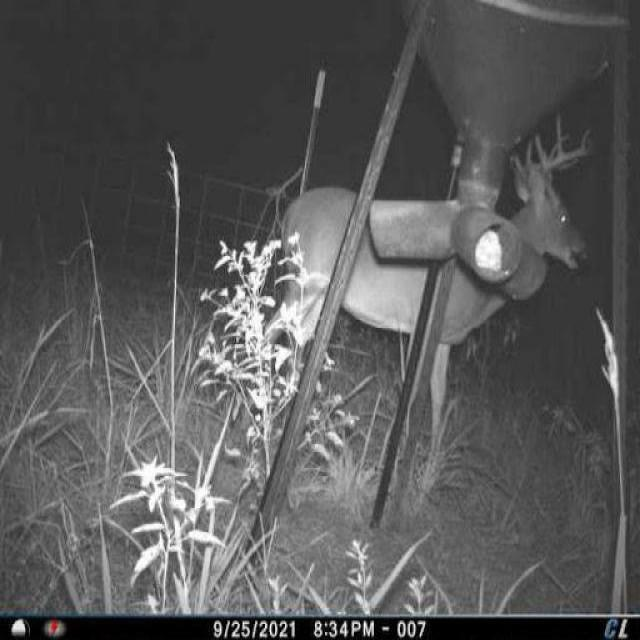deer: (258, 111, 602, 513)
